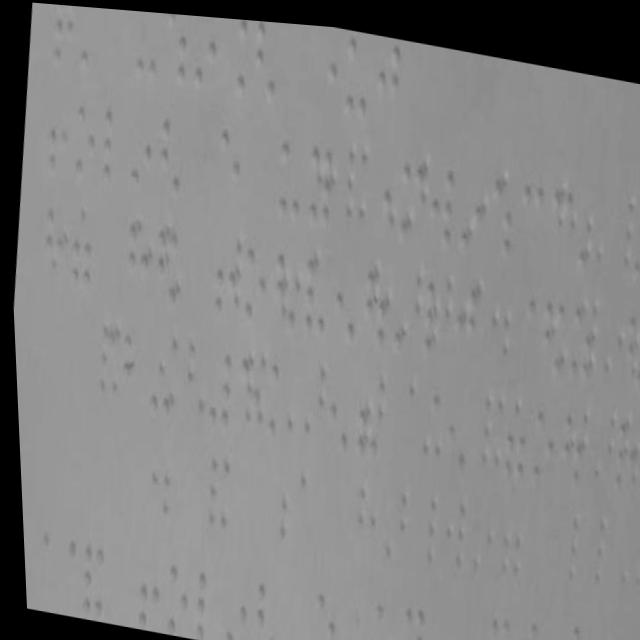braiile: (247, 16, 283, 98), (319, 363, 351, 451), (423, 159, 456, 244), (127, 547, 160, 631), (523, 399, 556, 480), (259, 354, 290, 439), (125, 108, 156, 193), (67, 102, 98, 186), (153, 117, 186, 195), (438, 385, 468, 469), (97, 104, 128, 185), (188, 12, 221, 87), (156, 558, 187, 636), (40, 101, 71, 179), (237, 244, 268, 321), (297, 257, 328, 334), (496, 398, 526, 476), (130, 8, 161, 82), (215, 567, 246, 640), (65, 214, 95, 289), (327, 260, 356, 336), (186, 567, 215, 640), (562, 299, 590, 372), (75, 5, 105, 73), (244, 576, 275, 640), (360, 595, 391, 640), (476, 602, 508, 640), (389, 600, 418, 640), (502, 606, 534, 640), (528, 611, 560, 640)
